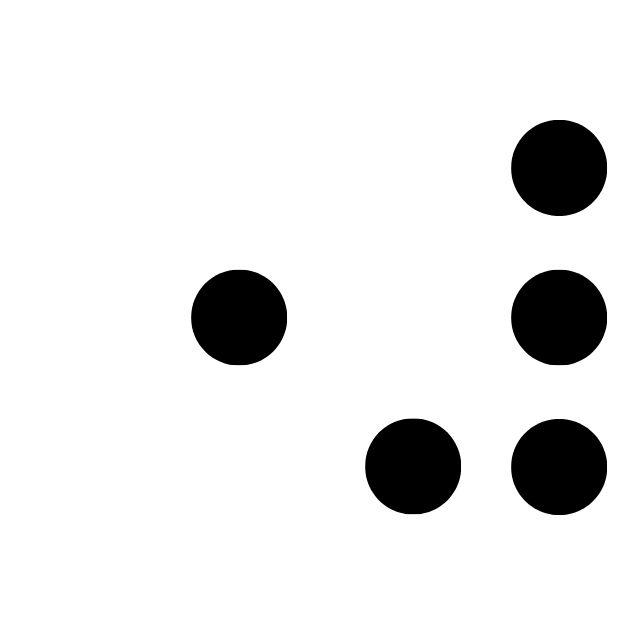bulaklak: (363, 120, 606, 516)
dot_5: (45, 119, 288, 515)
